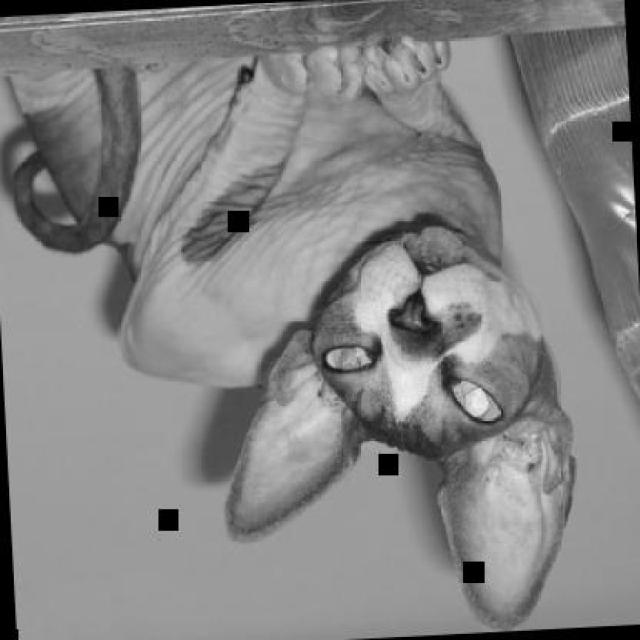cat: (0, 31, 588, 638)
